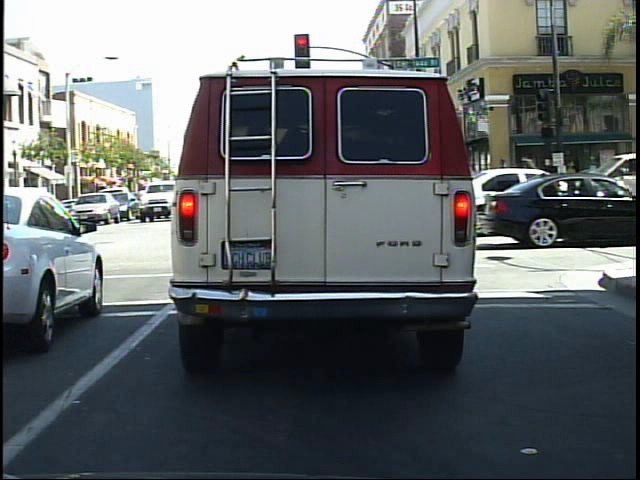person: (536, 154, 564, 218), (516, 157, 541, 213), (495, 155, 514, 213), (506, 162, 525, 212)
